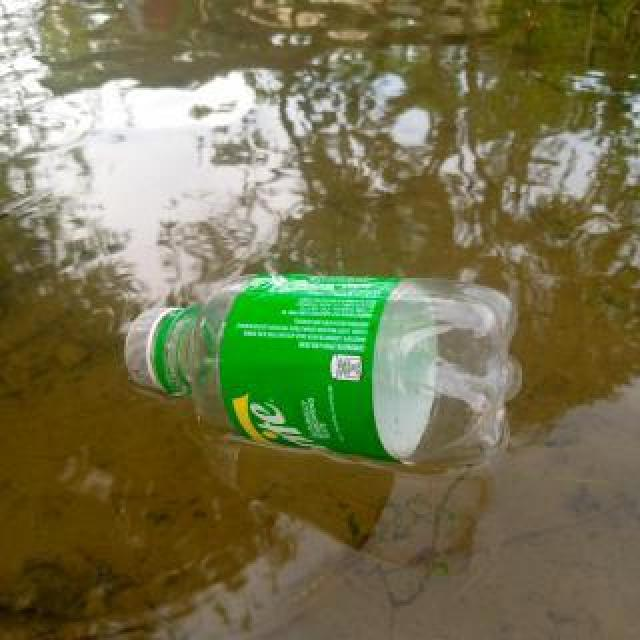bottle: (124, 274, 524, 472)
